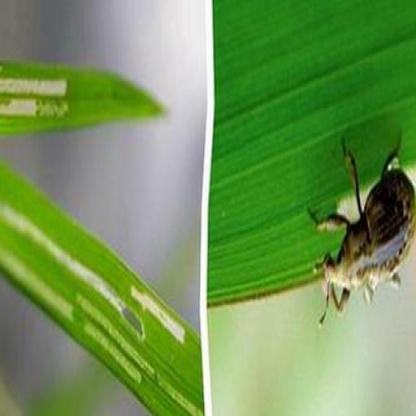rice-bug: (317, 135, 416, 309)
